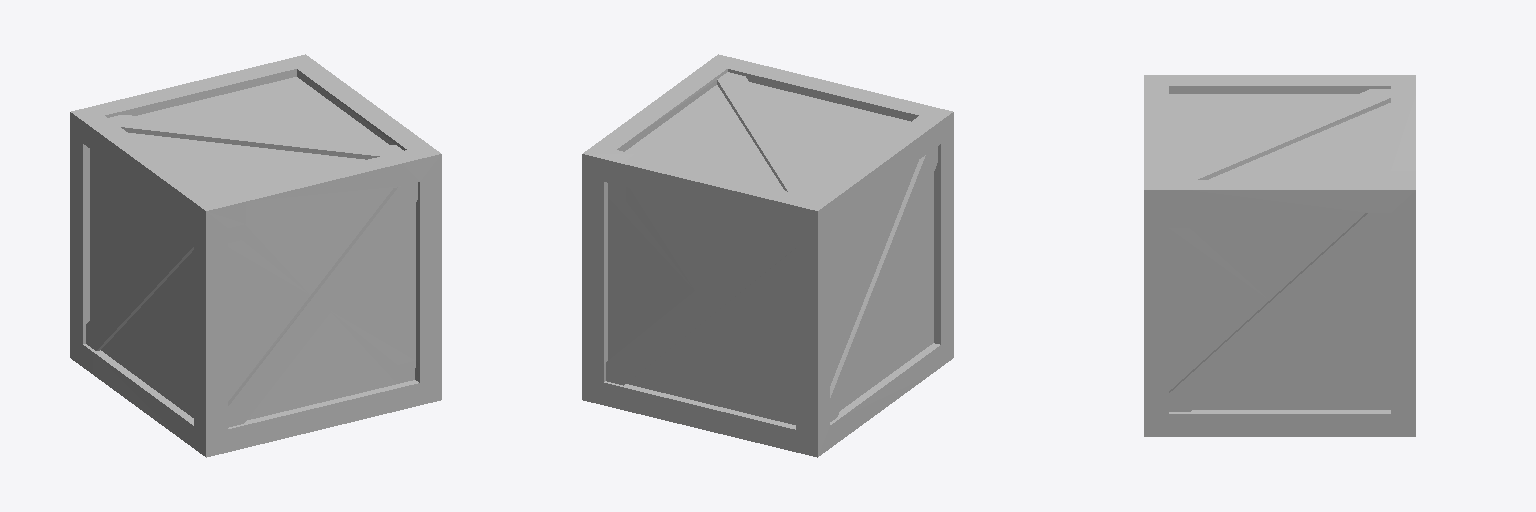
File: BackBox.obj
3 renders of one model, left to right at view 1: azimuth 30°, elevation 25°; view 2: azimuth 150°, elevation 25°; view 3: azimuth 270°, elevation 25°, orthographic.
Parts seen in each view (by area): view 1: WoodenBox; view 2: WoodenBox; view 3: WoodenBox.
Boxes of the visible parts, x1=… form: WoodenBox: x1=70, y1=54, x2=441, y2=457; WoodenBox: x1=582, y1=54, x2=953, y2=457; WoodenBox: x1=1144, y1=75, x2=1415, y2=436.
Size of the model in its own units: 0.498 by 0.4981 by 0.498.